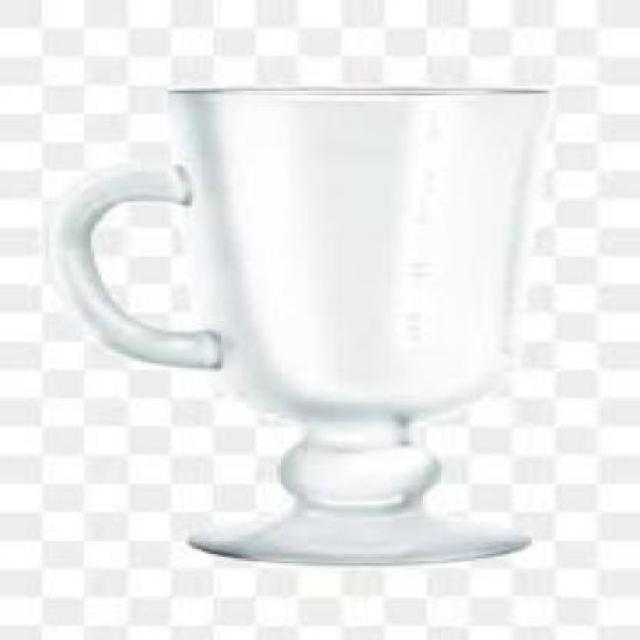kaca: (52, 85, 546, 557)
